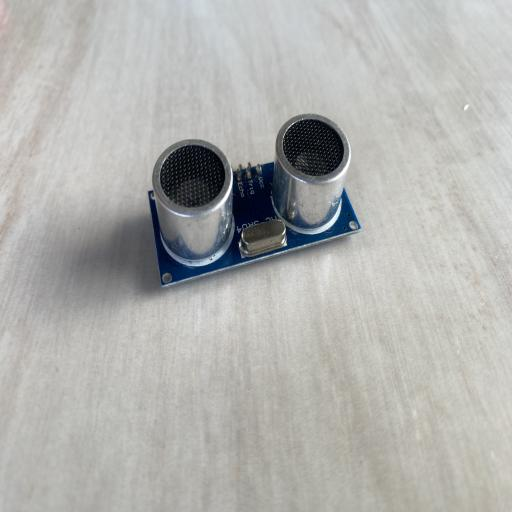Ultrasonic Sensor: (146, 110, 362, 290)
